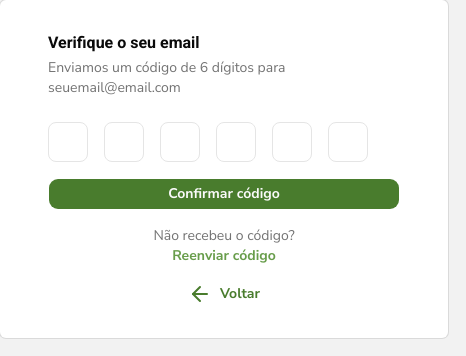
VerifyEmailForm › resends a code after the countdown and resets the timer
Click the button "Reenviar código" at x=224, y=256, box [172,246,276,266]
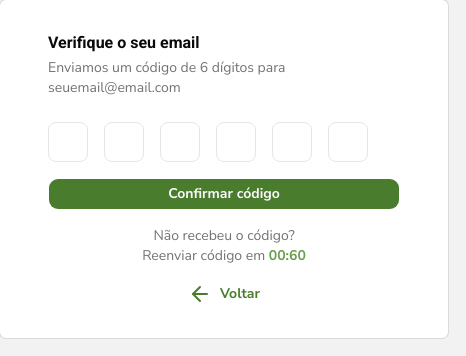
expect the text "Reenviar código em" is shown: met, box [142,246,265,265]
